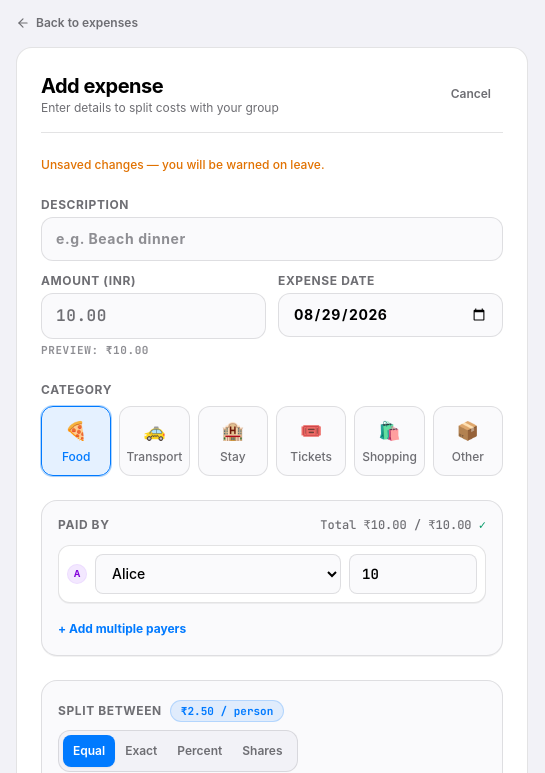
Milestone 3 Challenger Empirical Stress Verifier › Task 2: Participant Split Selection, Batch Actions, & Form Validation Stress › multi-payer input validation properly rejects mismatched totals and allows correction
Replace the text in the field labelled "Amount (INR) Preview: ₹10.00" with "80.00" at (154, 316), box [41, 293, 266, 339]
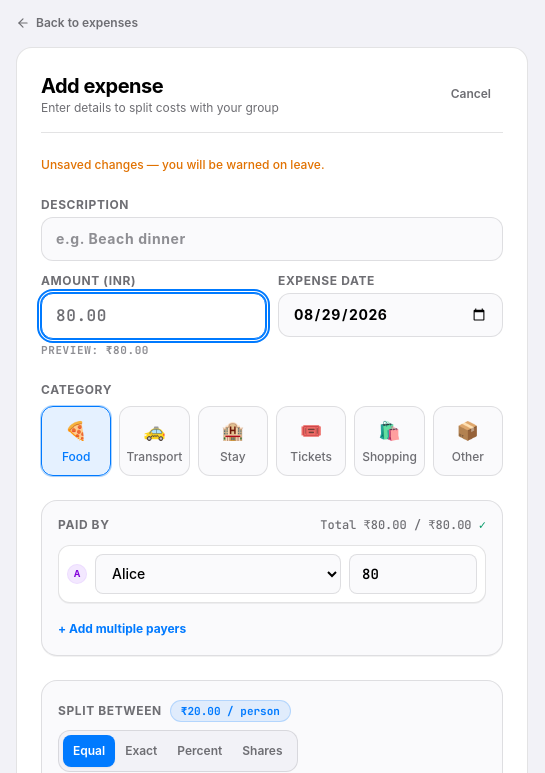
// Add second payer
Click the button "+ Add multiple payers".
click(122, 629)  # box [58, 621, 186, 637]
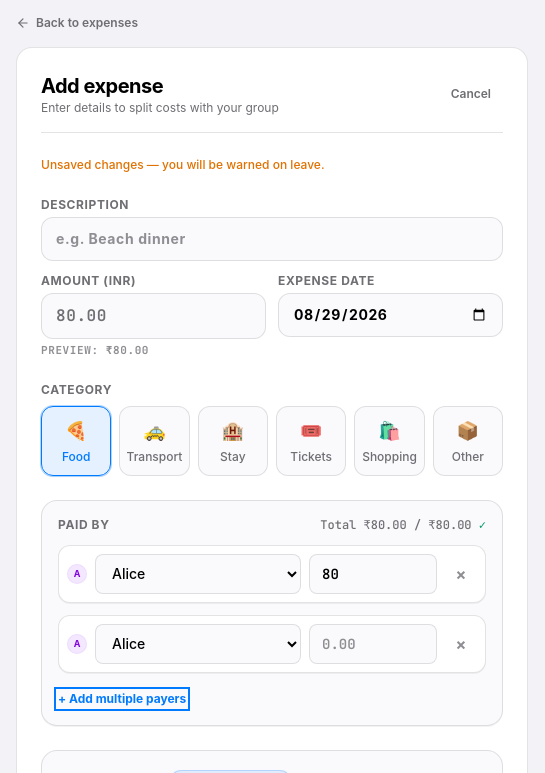
// Select Bob for 2nd payer
Select "Bob" in the 2nd dropdown at (198, 644), box [95, 624, 301, 664]
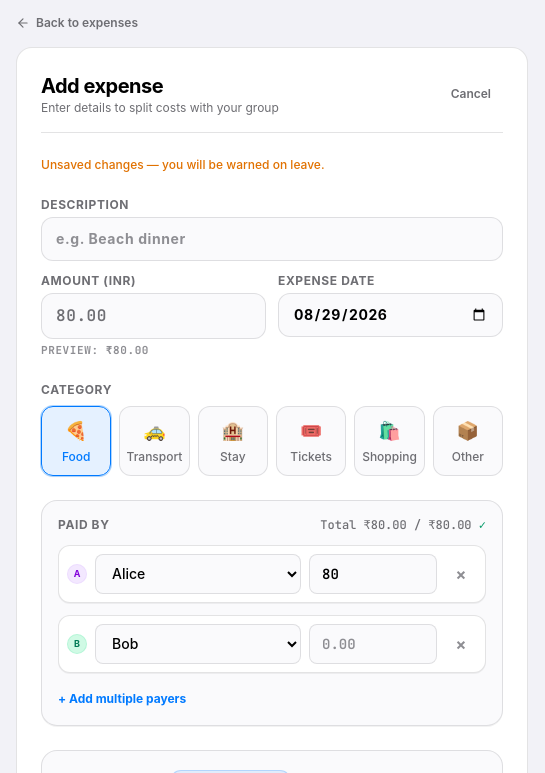
Replace the text in the field named "Payer amount for Alice" with "50" at (373, 574), box [309, 554, 437, 594]
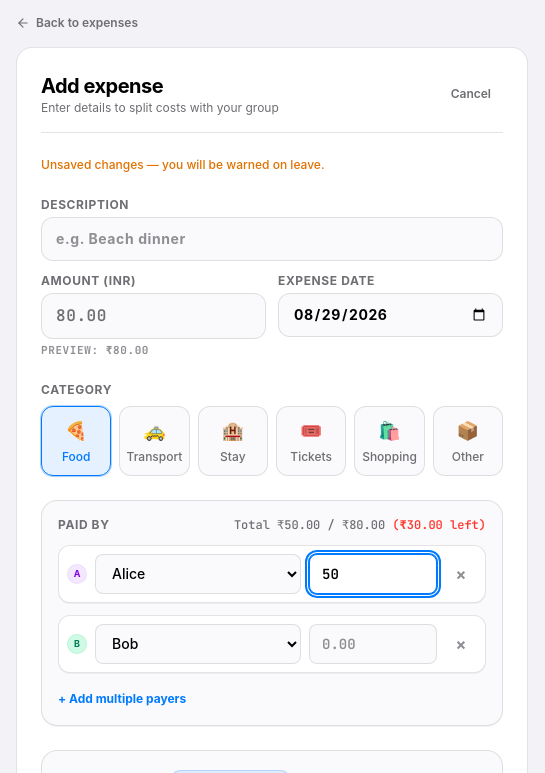
Type "20" into the field named "Payer amount for Bob".
click(373, 644); type("20")  # box [309, 624, 437, 664]
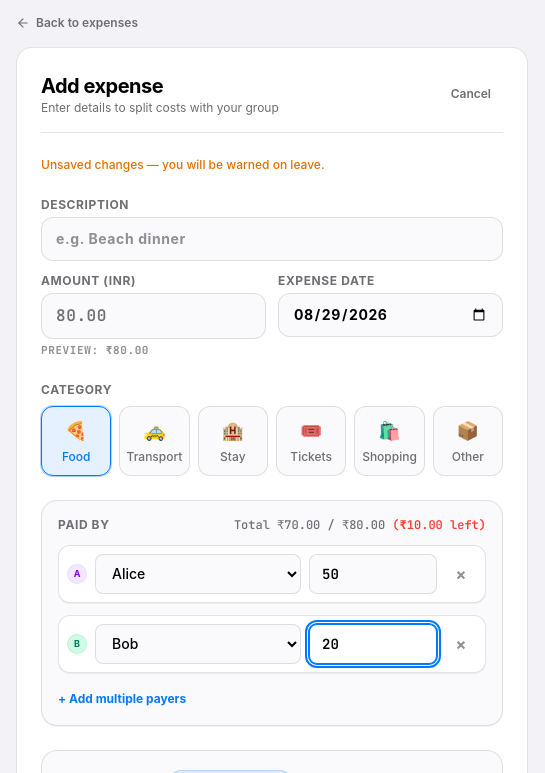
Result: the text "Total ₹70.00 / ₹80.00 (₹10.00 left)" is shown at [234, 517, 486, 533]
Result: the text "(₹10.00 left)" is shown at [392, 517, 486, 533]
Replace the text in the field named "Payer amount for Bob" with "30" at (373, 644), box [309, 624, 437, 664]
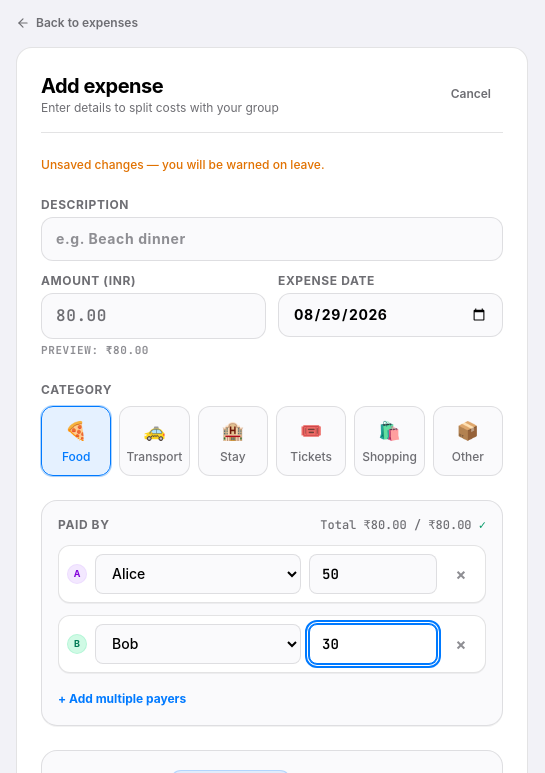
Result: the text "Total ₹80.00 / ₹80.00 ✓" is shown at [320, 517, 486, 533]
Result: the text "left)" is gone
